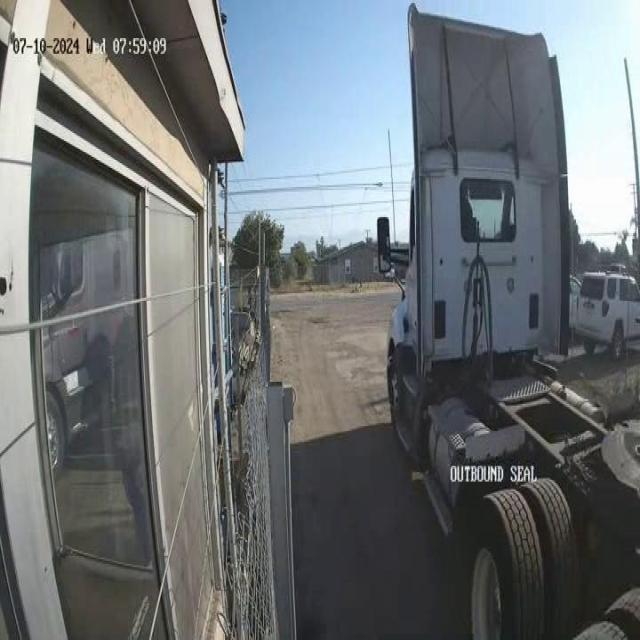TRUCK_OUT: (382, 3, 638, 637)
